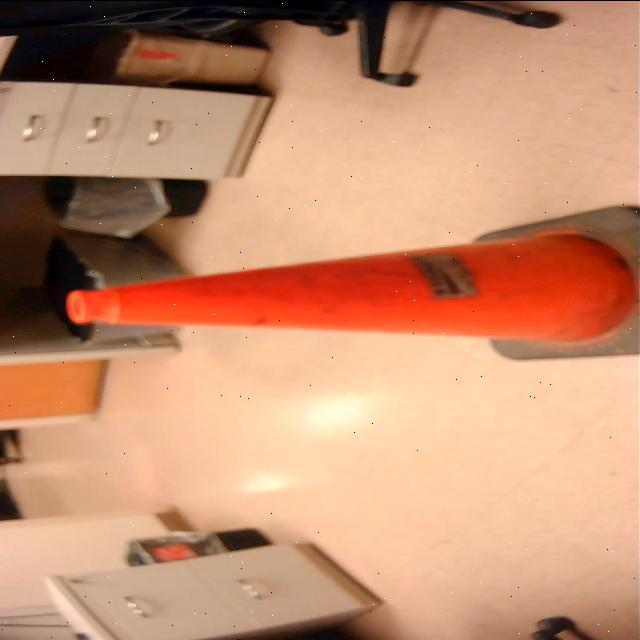traffic cone: (50, 196, 640, 368)
